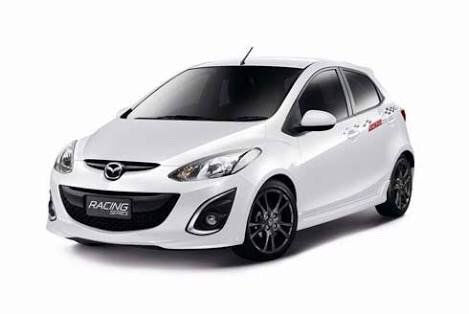sedan: (44, 55, 415, 263)
